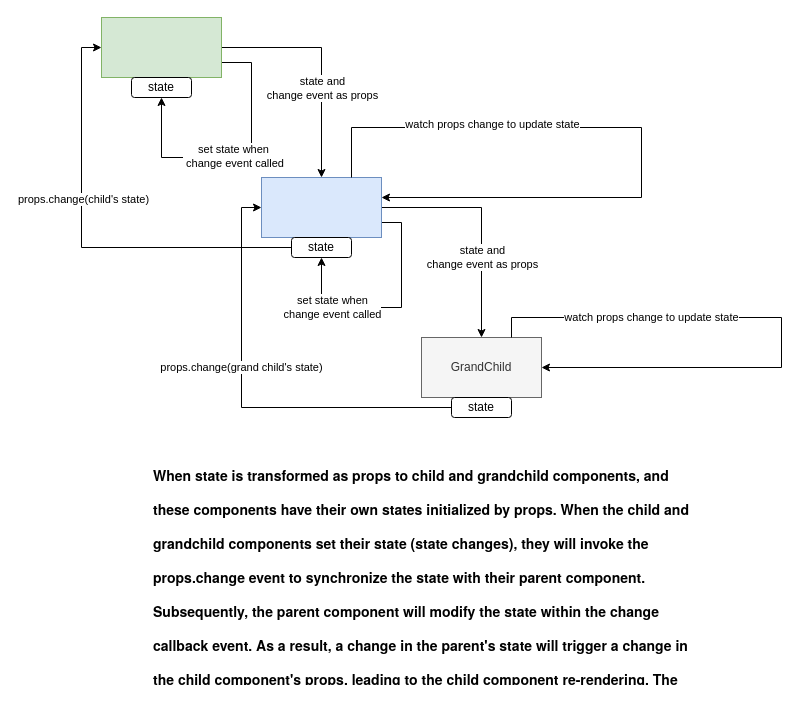
The diagram is 807 pixels wide and 705 high, and some of its shapes have lost their labels. Each missing label, with the centre of its shape:
"Child" belongs at (x=321, y=207).
"Parent" belongs at (x=161, y=47).
